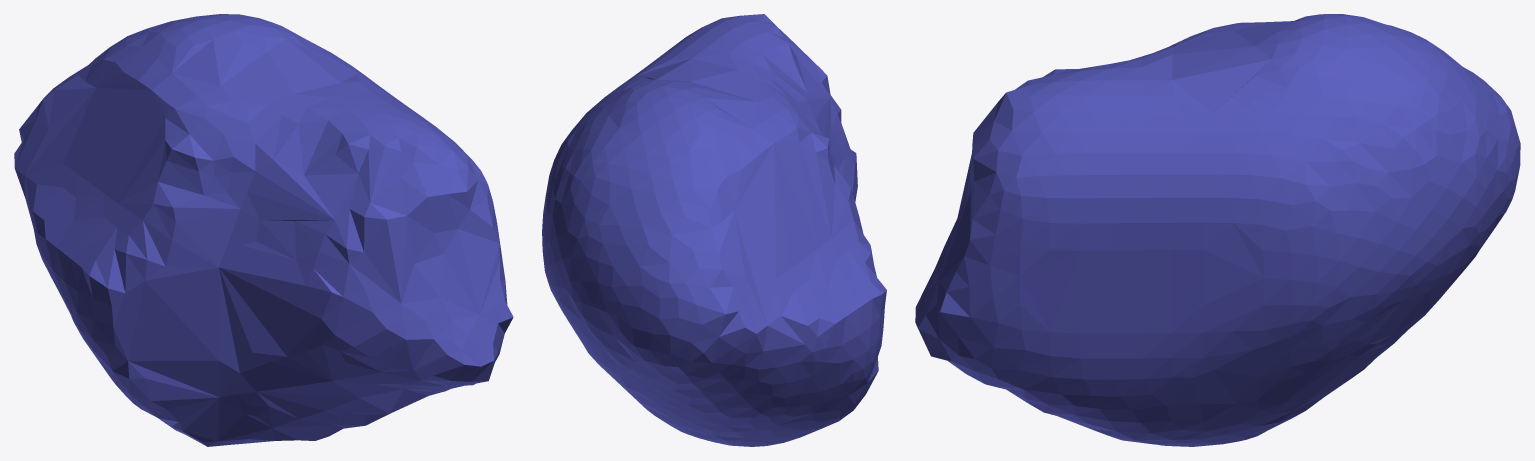
Rendered from Model_10379_LH__Medial_preoptic_nucleus_(MPO).obj.
3 renders of one model, left to right at view 1: azimuth 30°, elevation 25°; view 2: azimuth 150°, elevation 25°; view 3: azimuth 270°, elevation 25°, orthographic. The views are drawn at different scales.
Size of the model in its own units: 1.29 by 1.49 by 1.98.
